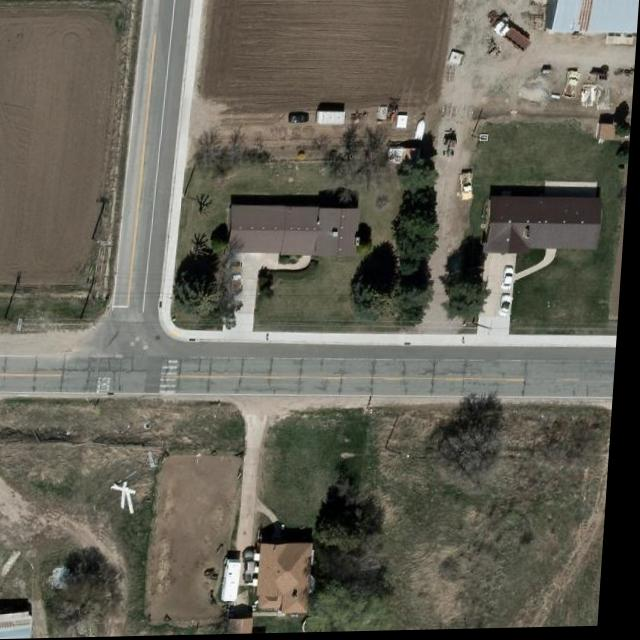vehicle: (491, 15, 538, 62), (228, 263, 248, 297), (459, 174, 478, 203), (565, 73, 583, 103), (249, 551, 267, 575), (504, 298, 517, 321), (506, 268, 517, 293), (289, 115, 312, 123)
